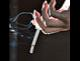Cigarette: (30, 26, 40, 52)
